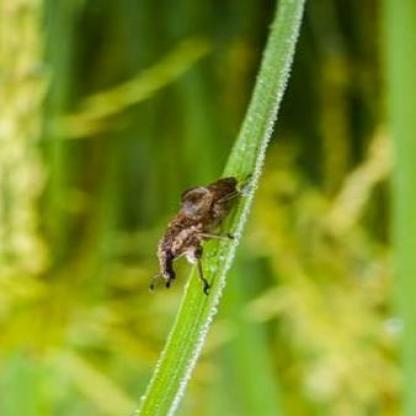rice-bug: (146, 172, 254, 292)
